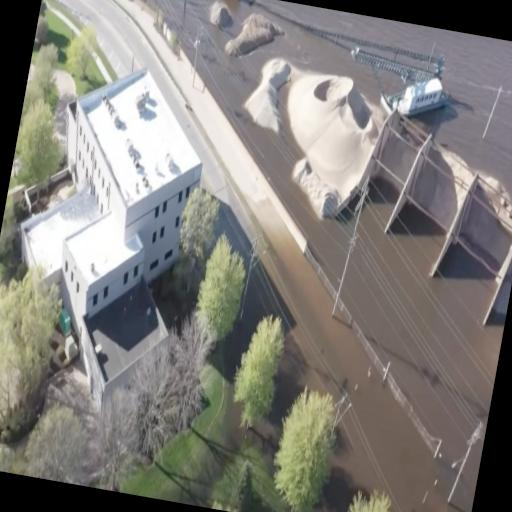flood: (159, 0, 409, 245), (260, 0, 512, 194)
house: (0, 45, 218, 409)
